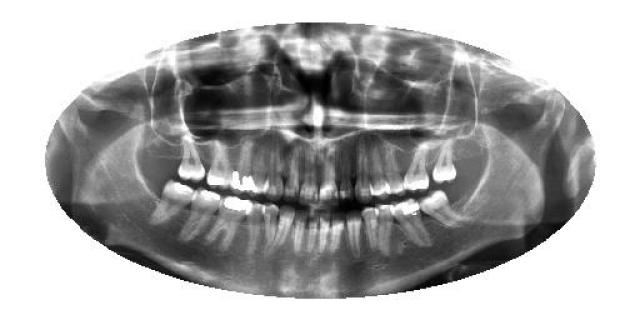Fillings: (206, 195, 252, 254), (176, 187, 222, 245), (146, 180, 192, 226), (389, 199, 431, 246), (206, 135, 234, 190), (232, 138, 252, 192)
